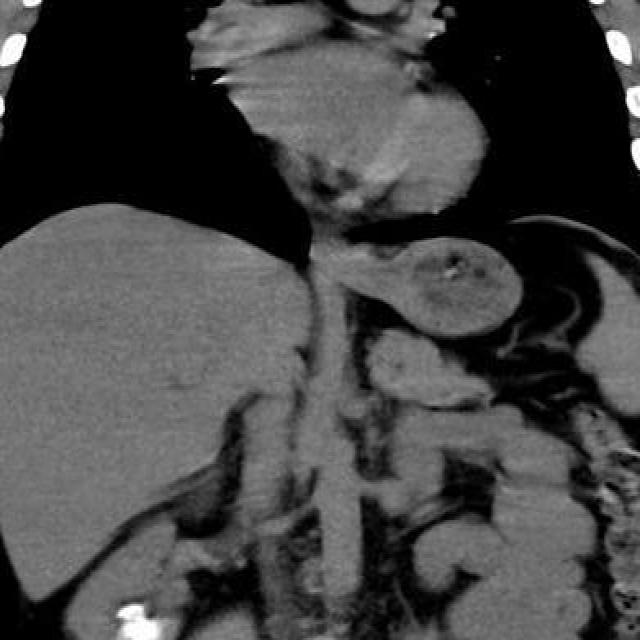Tas_Var: (116, 616, 160, 640), (115, 600, 144, 620)
